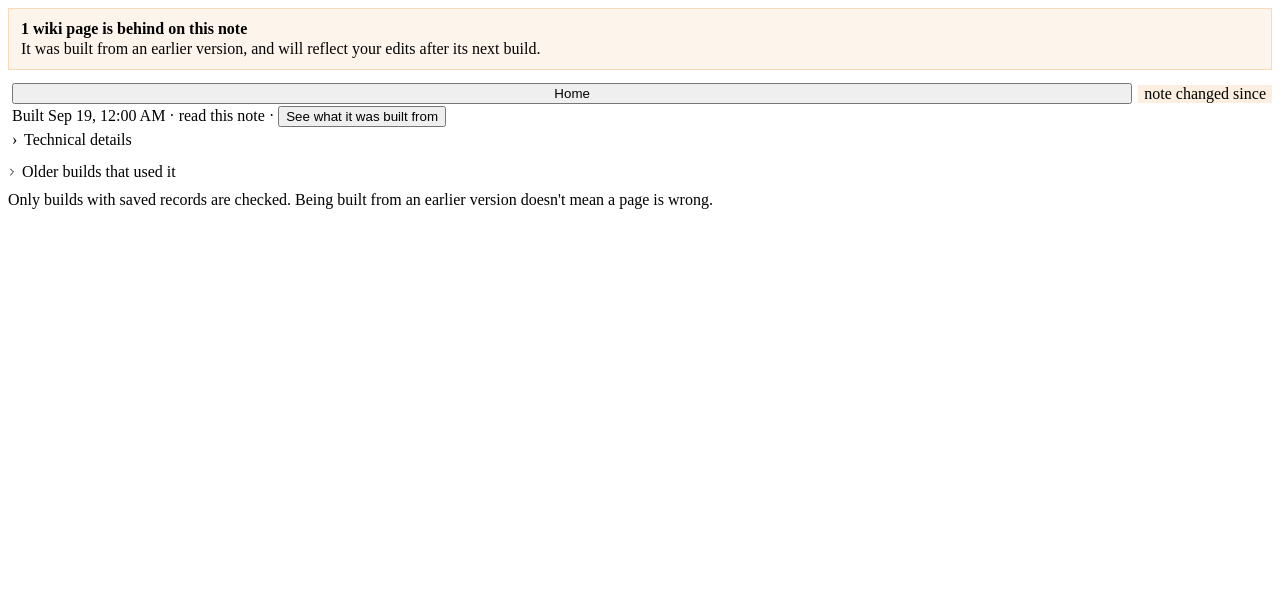
Test: returns to loaded impact results and labels the reviewed source input
Click the button "See what it was built from" at {"x": 362, "y": 116}, box [278,106,446,127]
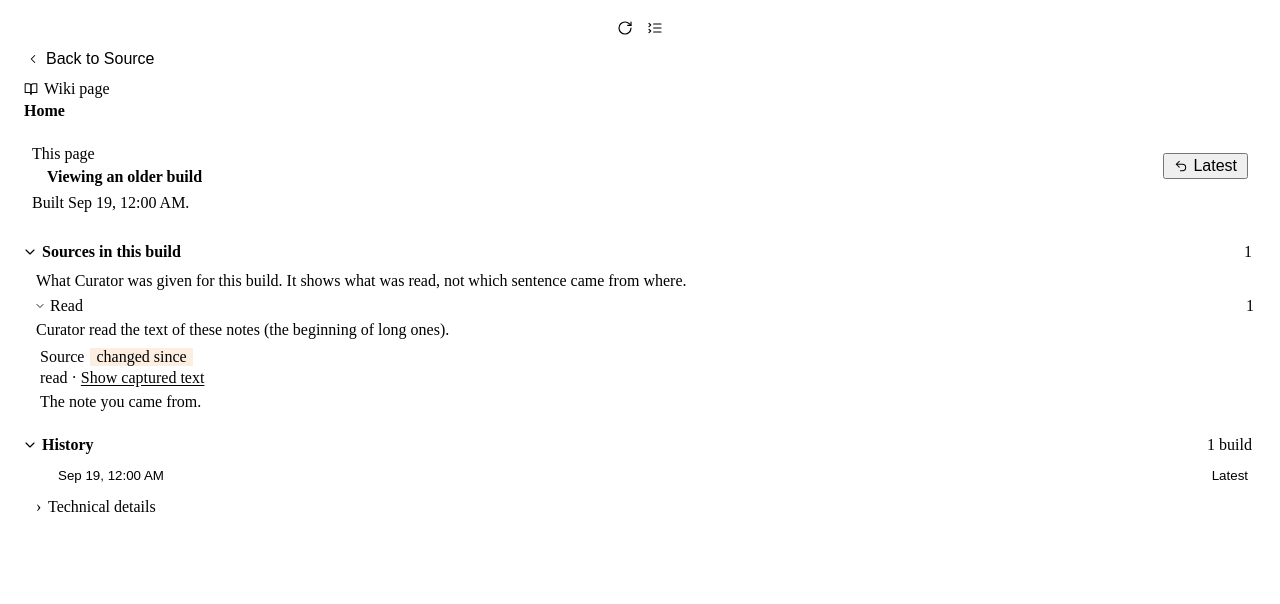
expect the text "The note you came from." is shown: met, box [40,392,201,410]
Click the button "Show captured text" at {"x": 143, "y": 378}, box [81,367,204,390]
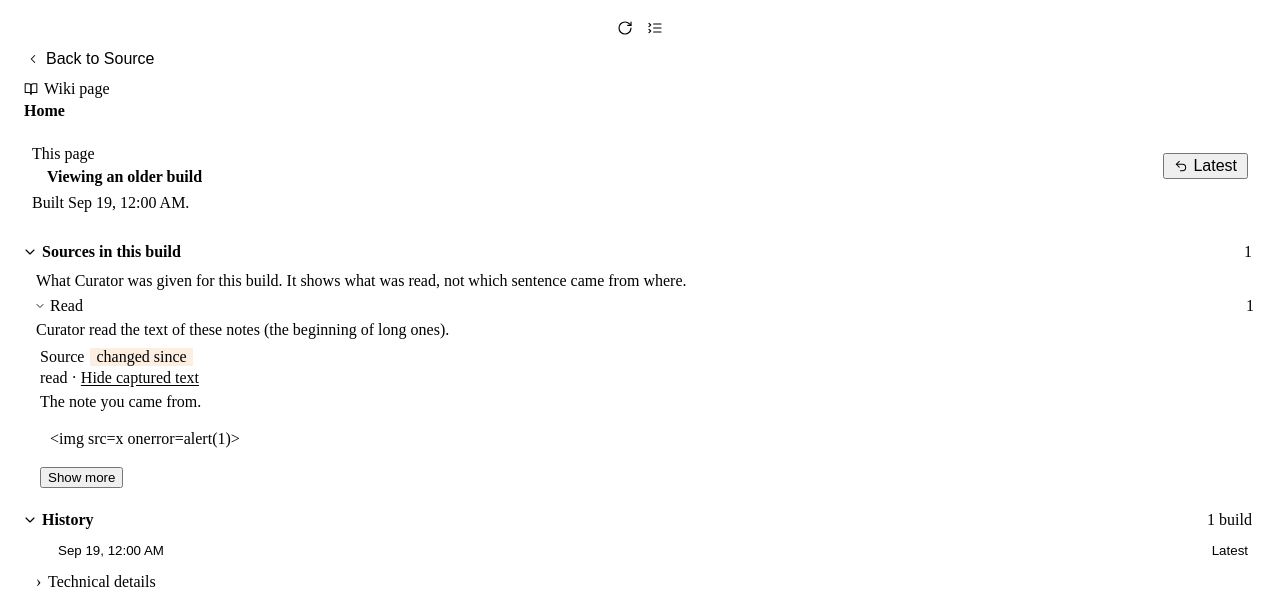
expect the text "<img src=x onerror=alert(1)>" is shown: met, box [50,430,240,447]
Click the button "Back to Source" at {"x": 75, "y": 58}, box [20,46,1260,72]
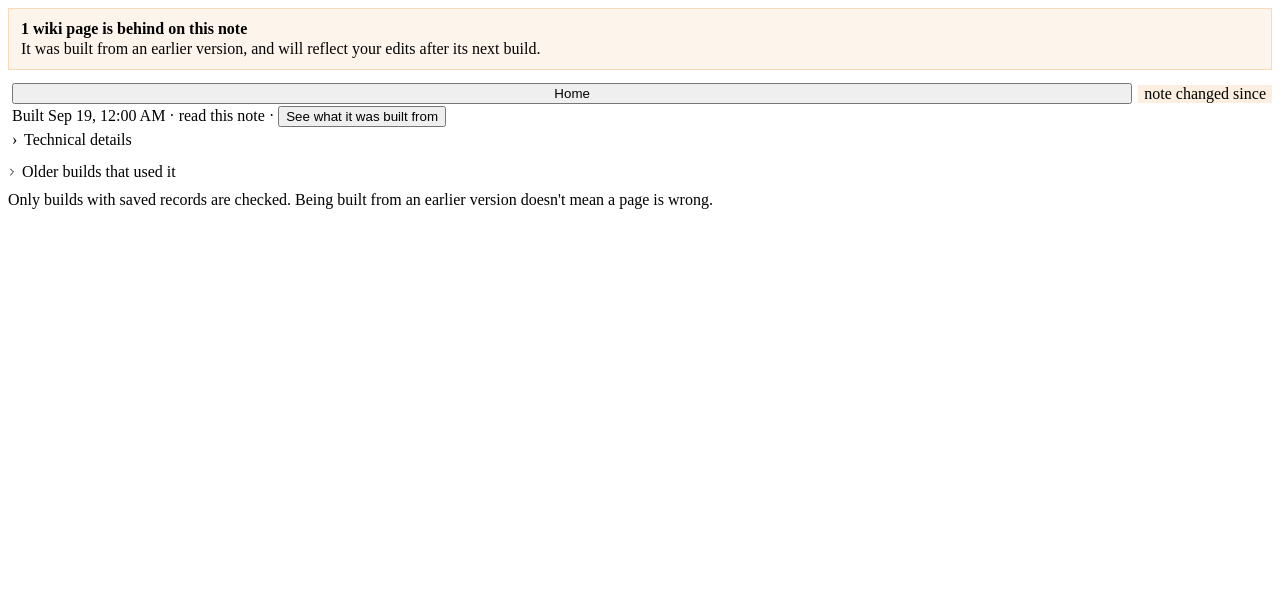
expect the button "See what it was built from" is shown: met, box [278,106,446,127]
